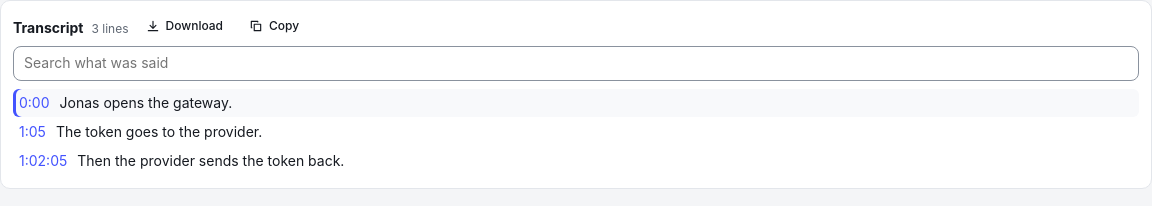
Test: TranscriptView › copies the transcript as the download writes it
Expected: the text "Jonas opens the gateway." is shown, [60,93,232,113]
Click the button "Copy". click: (274,26)
box: [240,13,308,38]
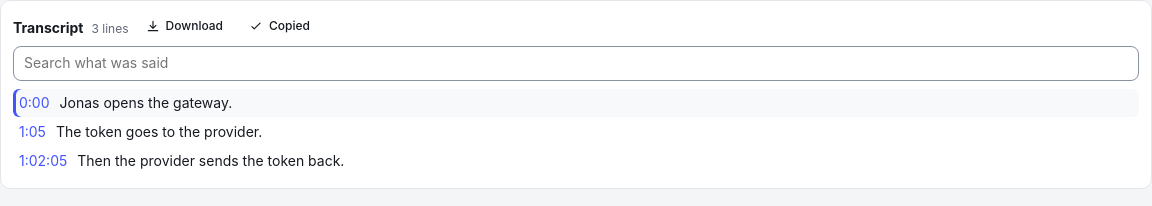
Expected: the button "Copied" is shown, [240,13,319,38]
